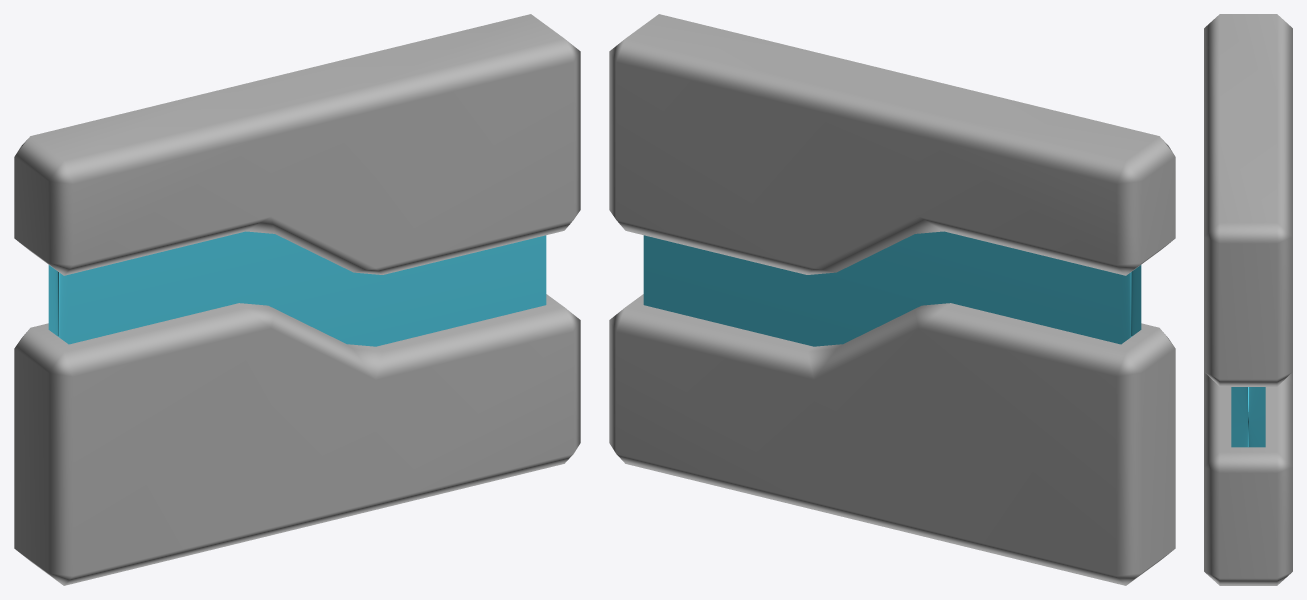
File: panel_008.fbx
3 views of the same model, side by side, from view 1: azimuth 30°, elevation 25°; view 2: azimuth 150°, elevation 25°; view 3: azimuth 270°, elevation 25° (orthographic). The views are drawn at different scales.
Visible parts, largest first — view 1: panel_008; view 2: panel_008; view 3: panel_008.
Part boxes in pixels (left/top/right/bottom): panel_008: left=14, top=14, right=580, bottom=585; panel_008: left=609, top=14, right=1175, bottom=585; panel_008: left=1204, top=14, right=1292, bottom=585.
Size of the model in its own units: 527 by 89.2 by 402.
